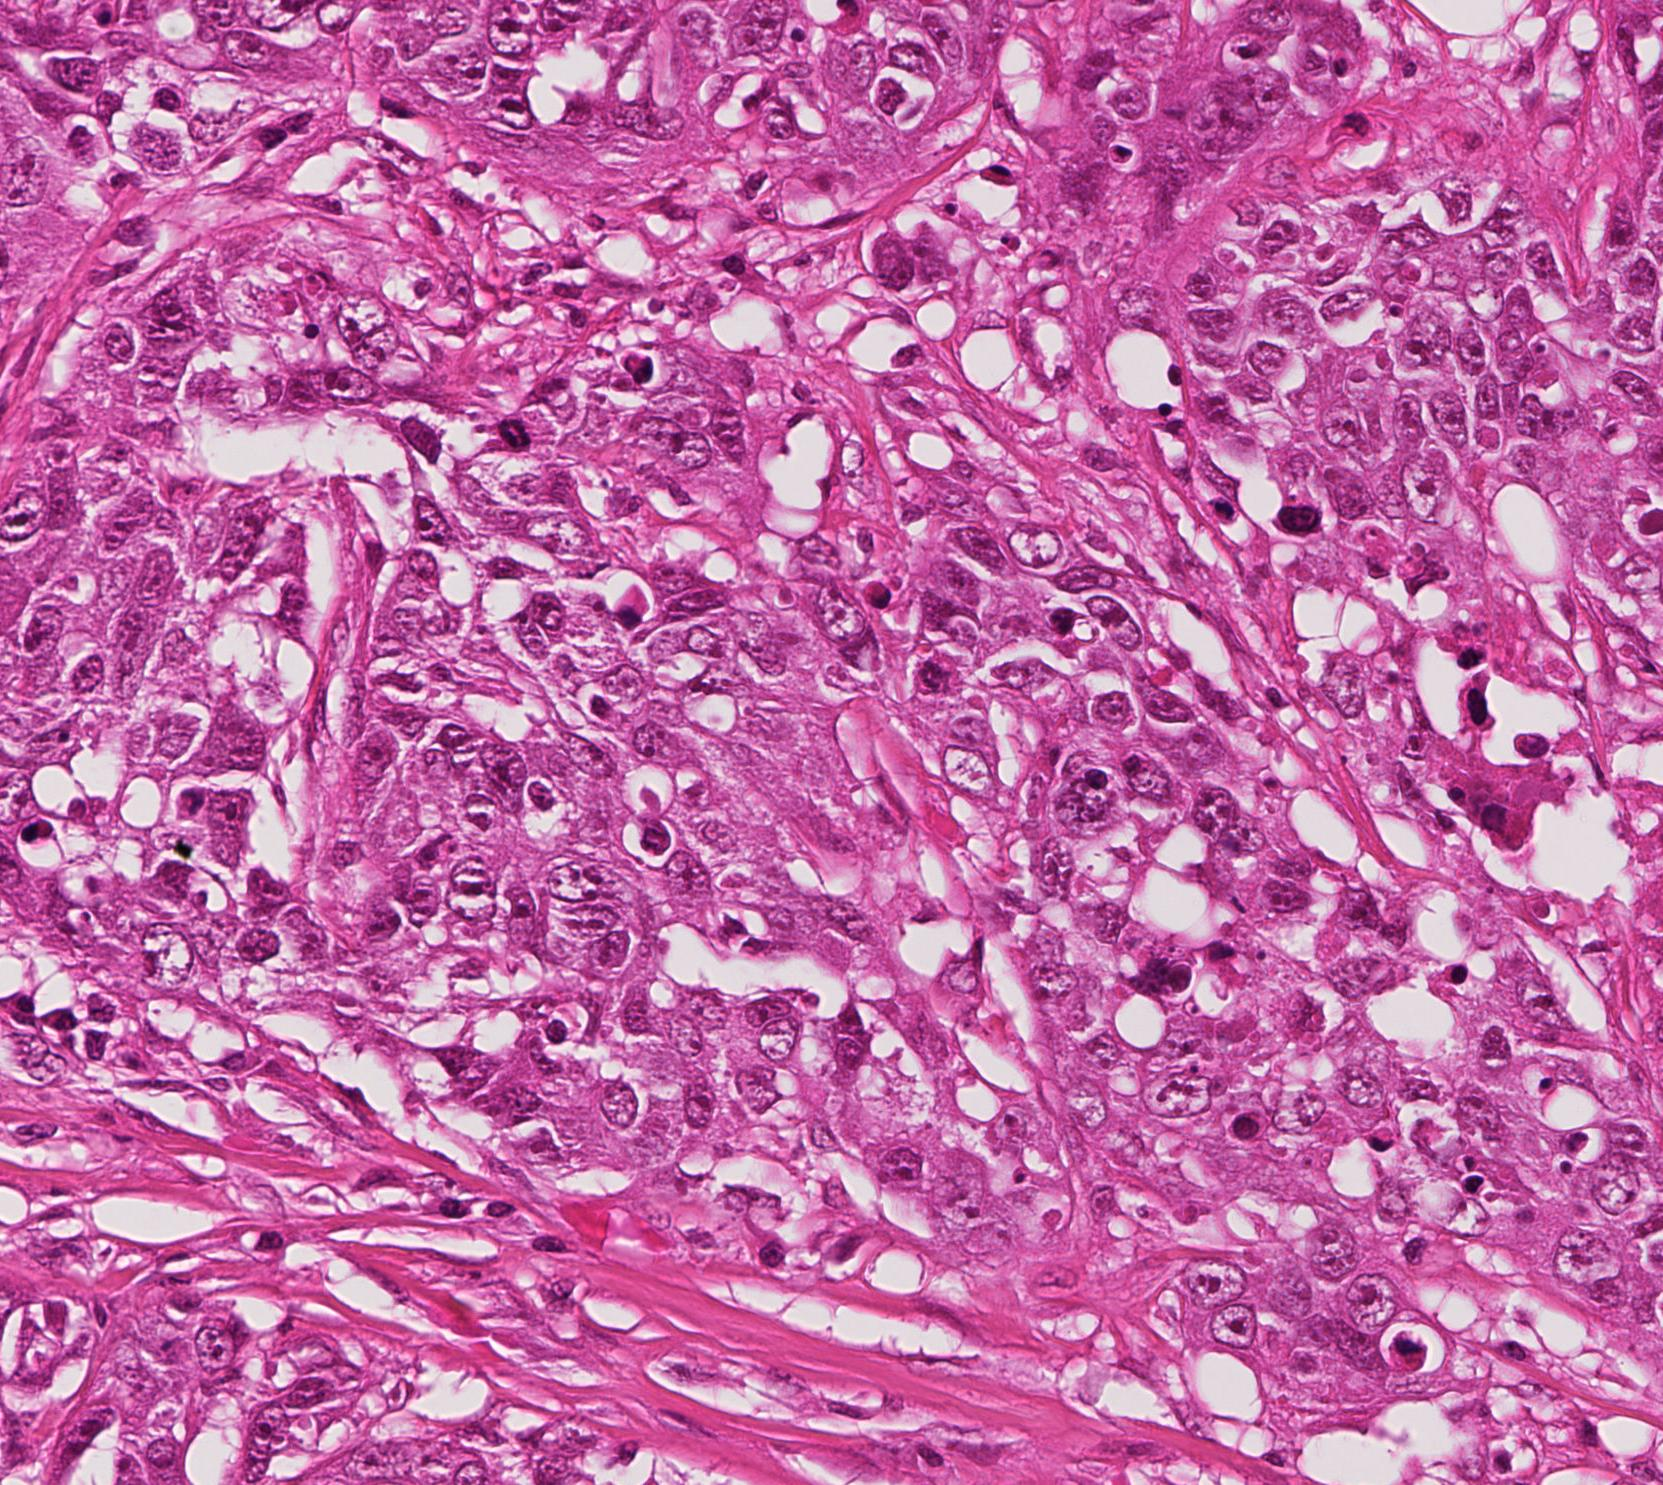mitosis: (485, 404, 545, 464)
